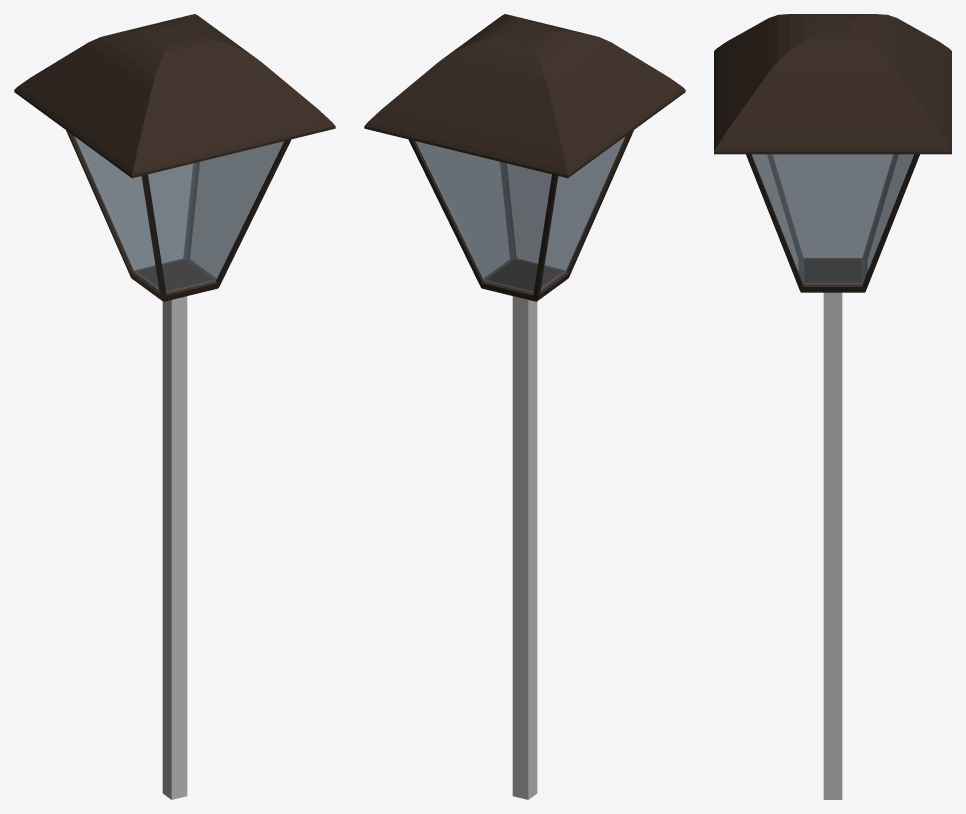
File: lamp.obj
3 renders of one model, left to right at view 1: azimuth 30°, elevation 25°; view 2: azimuth 150°, elevation 25°; view 3: azimuth 270°, elevation 25°, orthographic.
Parts seen in each view (by area): view 1: Cube_Cube.001, Cube.001_Cube.002, Cube.002_Cube.003; view 2: Cube_Cube.001, Cube.001_Cube.002, Cube.002_Cube.003; view 3: Cube_Cube.001, Cube.001_Cube.002, Cube.002_Cube.003.
Part boxes in pixels (<box>): Cube_Cube.001: <box>14,14,335,301</box>; Cube.001_Cube.002: <box>74,136,283,292</box>; Cube.002_Cube.003: <box>162,296,187,799</box>; Cube_Cube.001: <box>364,14,685,301</box>; Cube.001_Cube.002: <box>416,136,625,292</box>; Cube.002_Cube.003: <box>512,296,537,799</box>; Cube_Cube.001: <box>714,14,951,292</box>; Cube.001_Cube.002: <box>752,154,913,284</box>; Cube.002_Cube.003: <box>823,292,842,799</box>.
Bounding box in the file's own units: 2.23 × 7.98 × 2.23.
